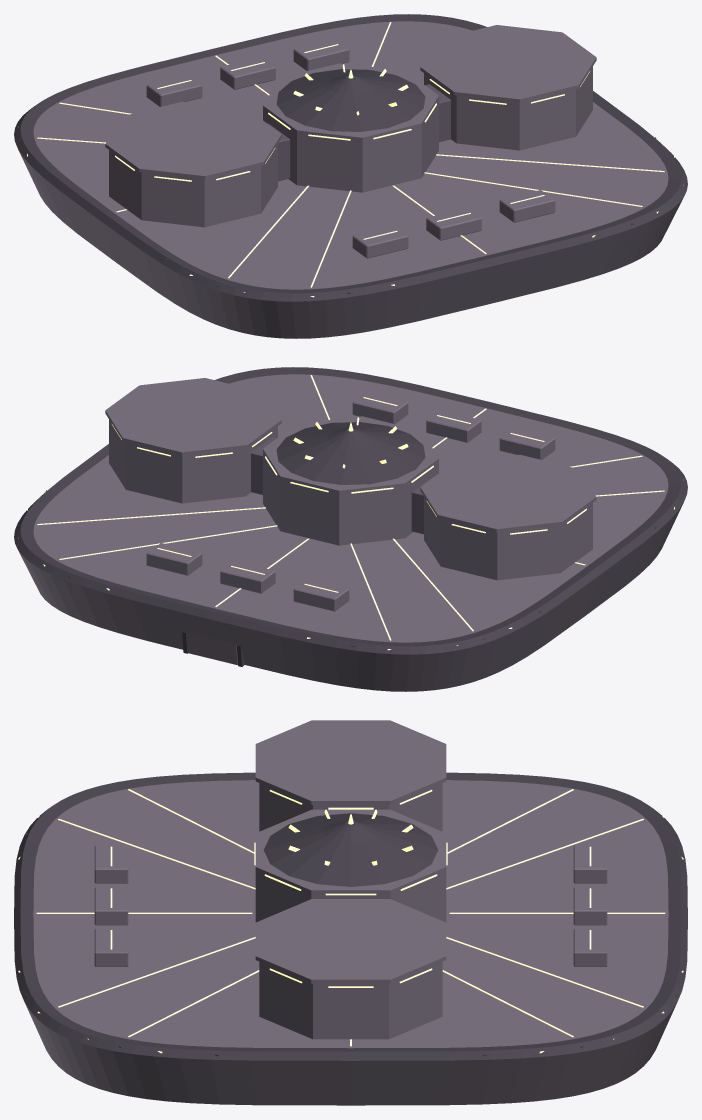
The model's file is ufo_supply.glb.
3 renders of one model, top to bottom at view 1: azimuth 30°, elevation 25°; view 2: azimuth 150°, elevation 25°; view 3: azimuth 270°, elevation 25°, orthographic. The views are drawn at different scales.
Visible parts, largest first — view 1: Lod_supply; view 2: Lod_supply; view 3: Lod_supply.
Part boxes in pixels (x1=…): Lod_supply: x1=14, y1=14, x2=687, y2=338; Lod_supply: x1=14, y1=367, x2=687, y2=691; Lod_supply: x1=14, y1=720, x2=687, y2=1105.
Size of the model in its own units: 47.84 by 13.35 by 47.84.
